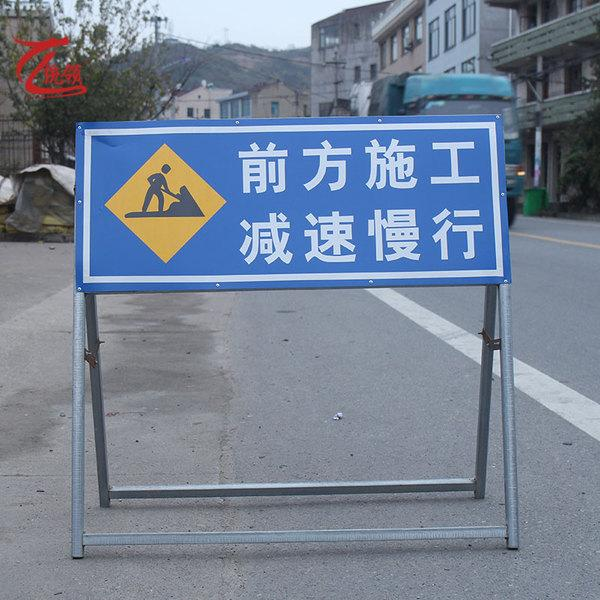sign: (76, 122, 522, 550)
